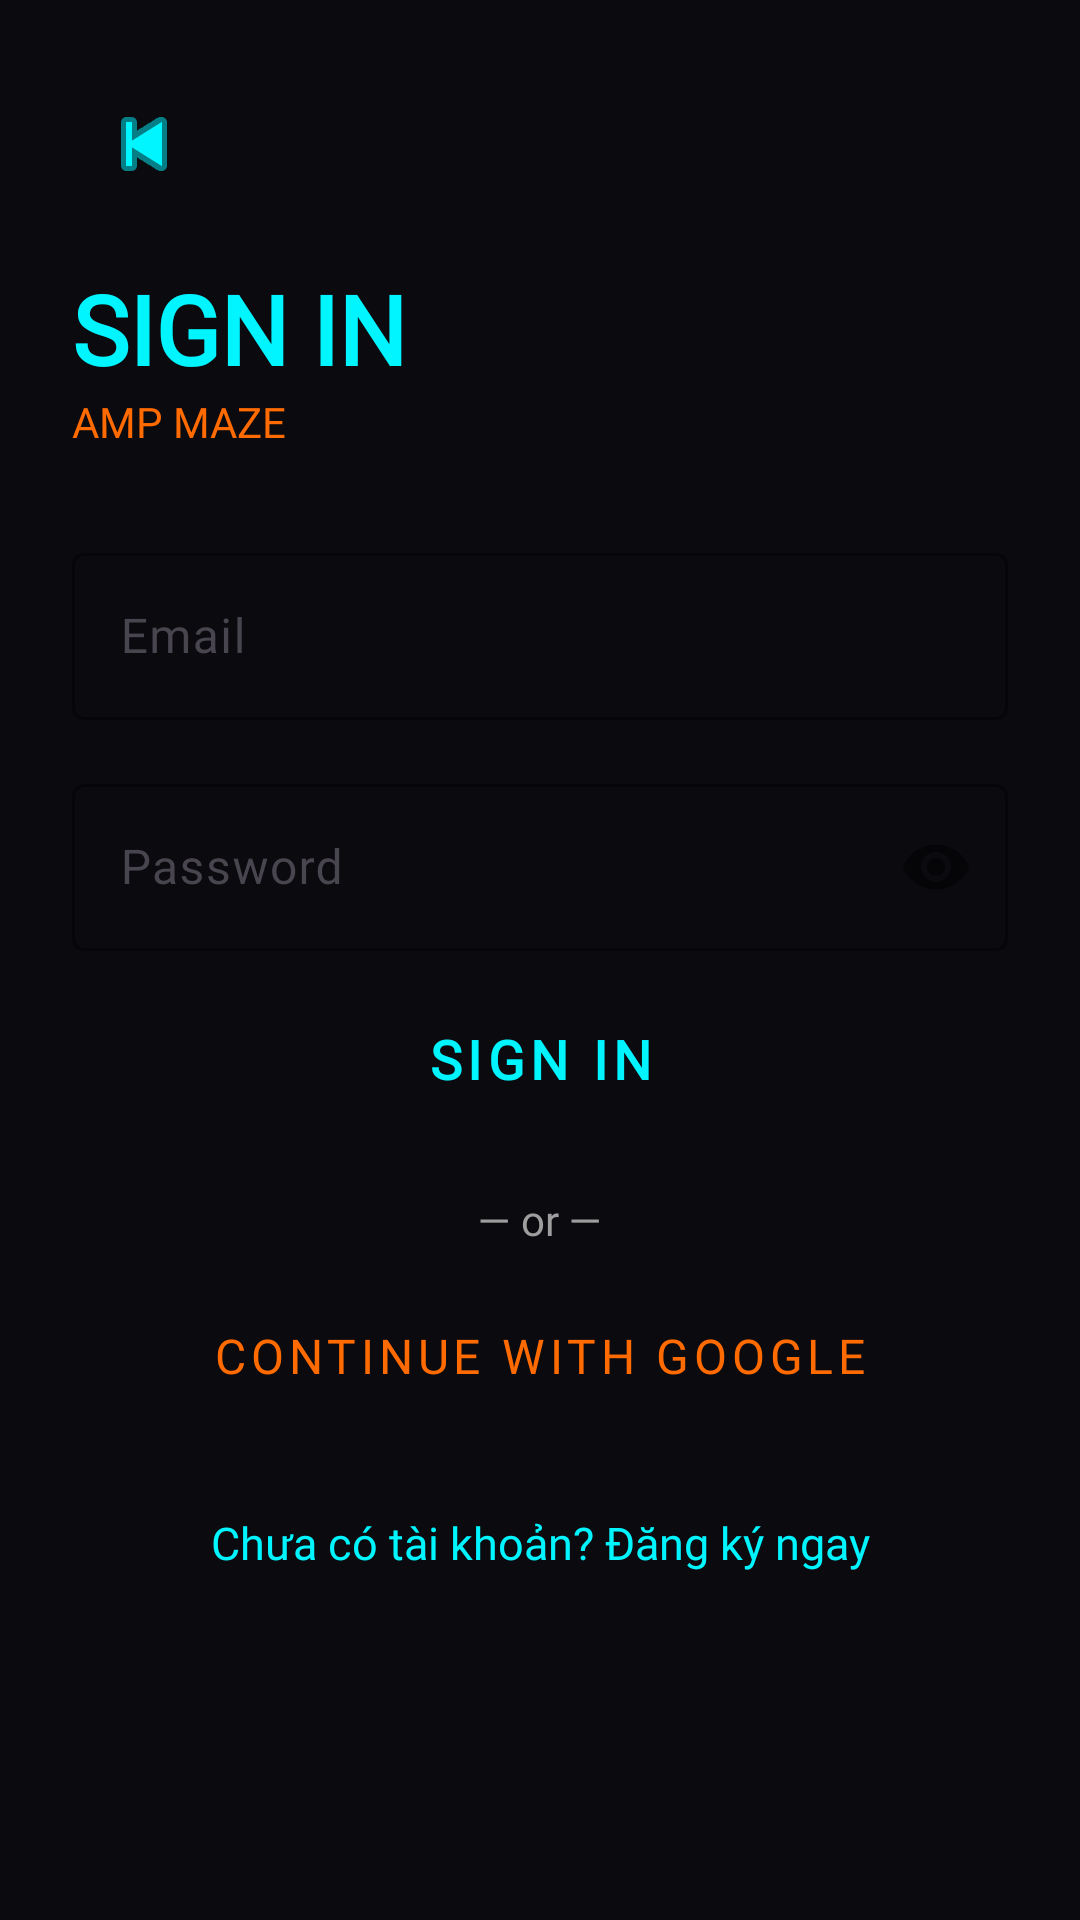

Locate icon controls on the screen. Image size 1080x1920, boxes as [x1=x1, y1=y1, x2=x2, y2=y2].
Back: [x1=121, y1=117, x2=167, y2=171]
